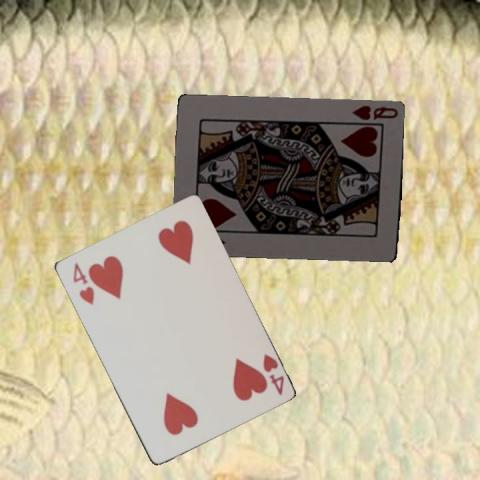4h: (70, 258, 96, 306), (260, 350, 286, 396)
Qh: (349, 102, 400, 121)
